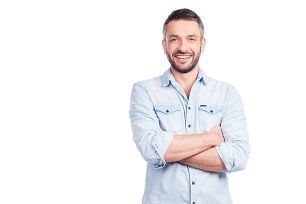male: (160, 10, 212, 77)
